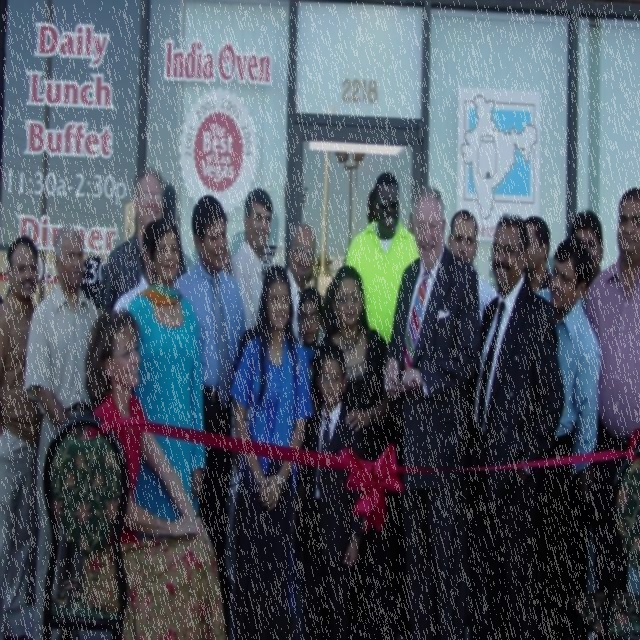pessoa: (78, 306, 230, 639), (376, 181, 482, 639), (460, 207, 568, 639), (170, 192, 250, 625), (224, 260, 314, 639), (24, 220, 102, 638), (534, 232, 603, 639), (126, 215, 207, 522), (584, 182, 640, 597), (294, 331, 361, 639), (308, 263, 398, 464), (342, 170, 420, 348), (293, 284, 327, 639), (94, 164, 166, 318), (229, 185, 275, 332), (446, 207, 500, 325), (112, 220, 154, 318), (284, 221, 317, 341), (522, 212, 554, 294), (570, 207, 604, 284), (366, 181, 376, 226)
